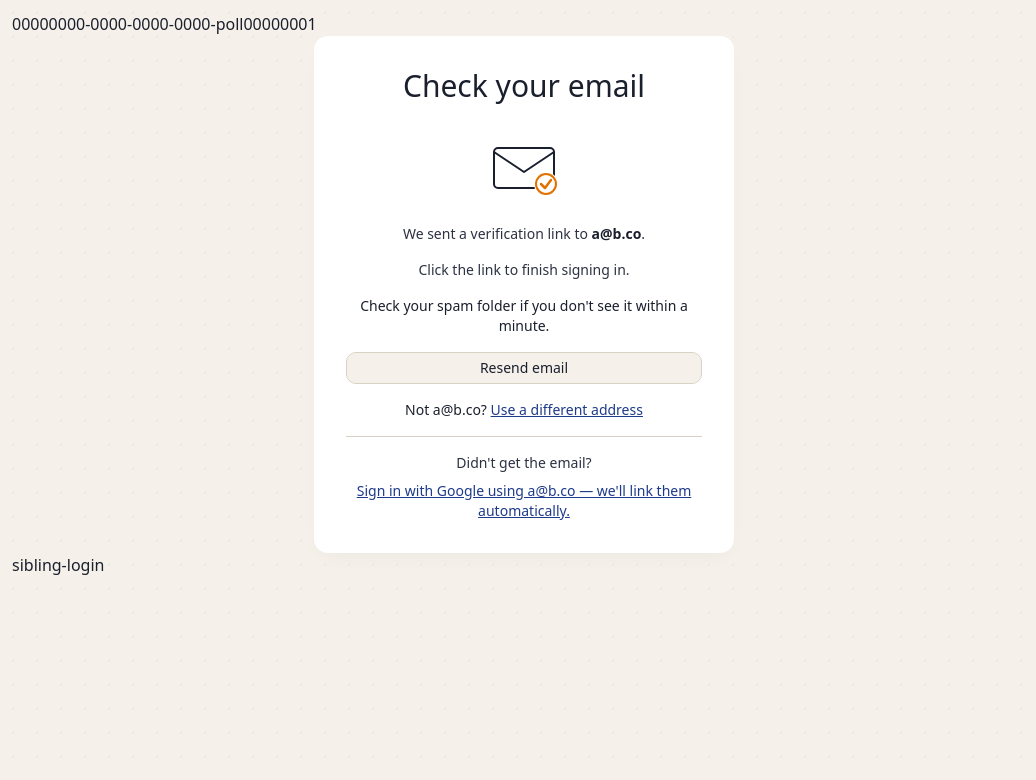
it: VerifyEmailPage AC4 — resend countdown › URL pollId updates after a successful resend with non-null verifyPollId
The image size is (1036, 780).
Expected: the element with test id "verify-polling" is shown, [346,128,702,521]
Expected: the text with test id "url-pollId" reads "00000000-0000-0000-0000-poll00000001", [12,13,317,35]
Click the button with test id "verify-resend-button" at (524, 368), box [346,352,702,384]
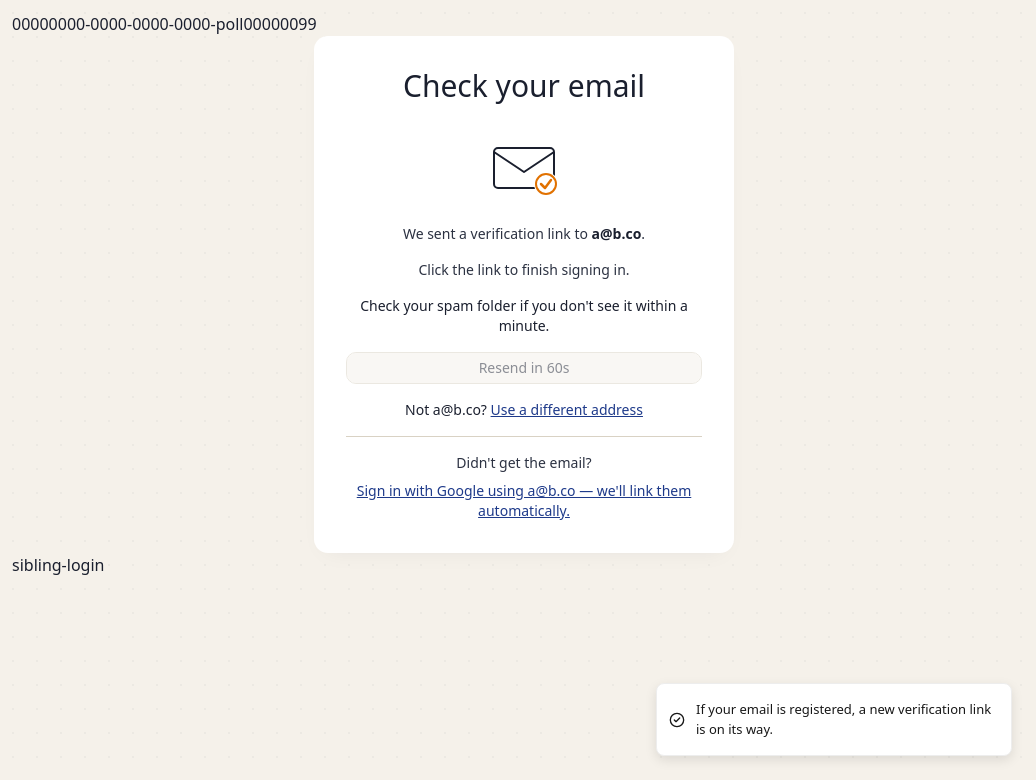
Expected: the text with test id "url-pollId" reads "00000000-0000-0000-0000-poll00000099", [12,13,317,35]
